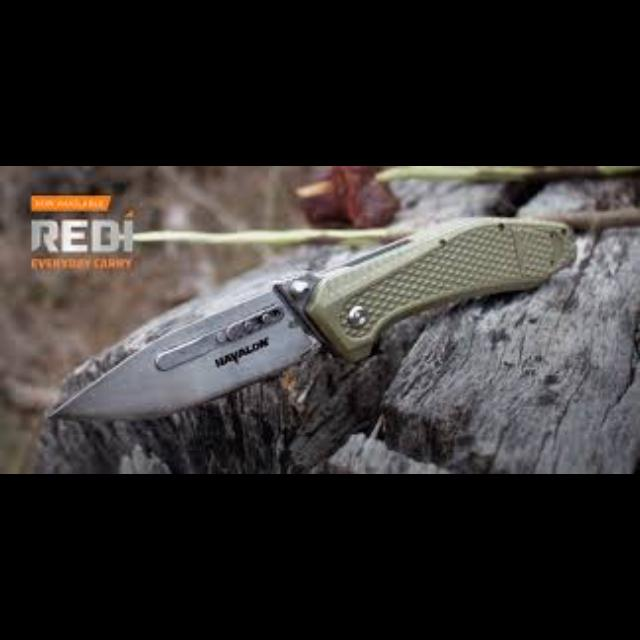Knife: (46, 216, 576, 420)
